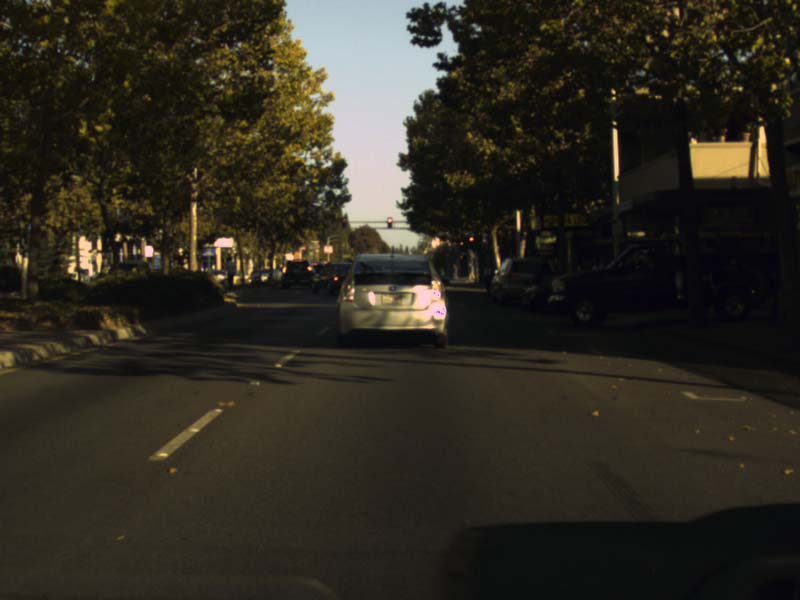Red: (468, 234, 474, 247), (386, 217, 392, 228), (459, 237, 464, 249), (341, 217, 346, 227)
